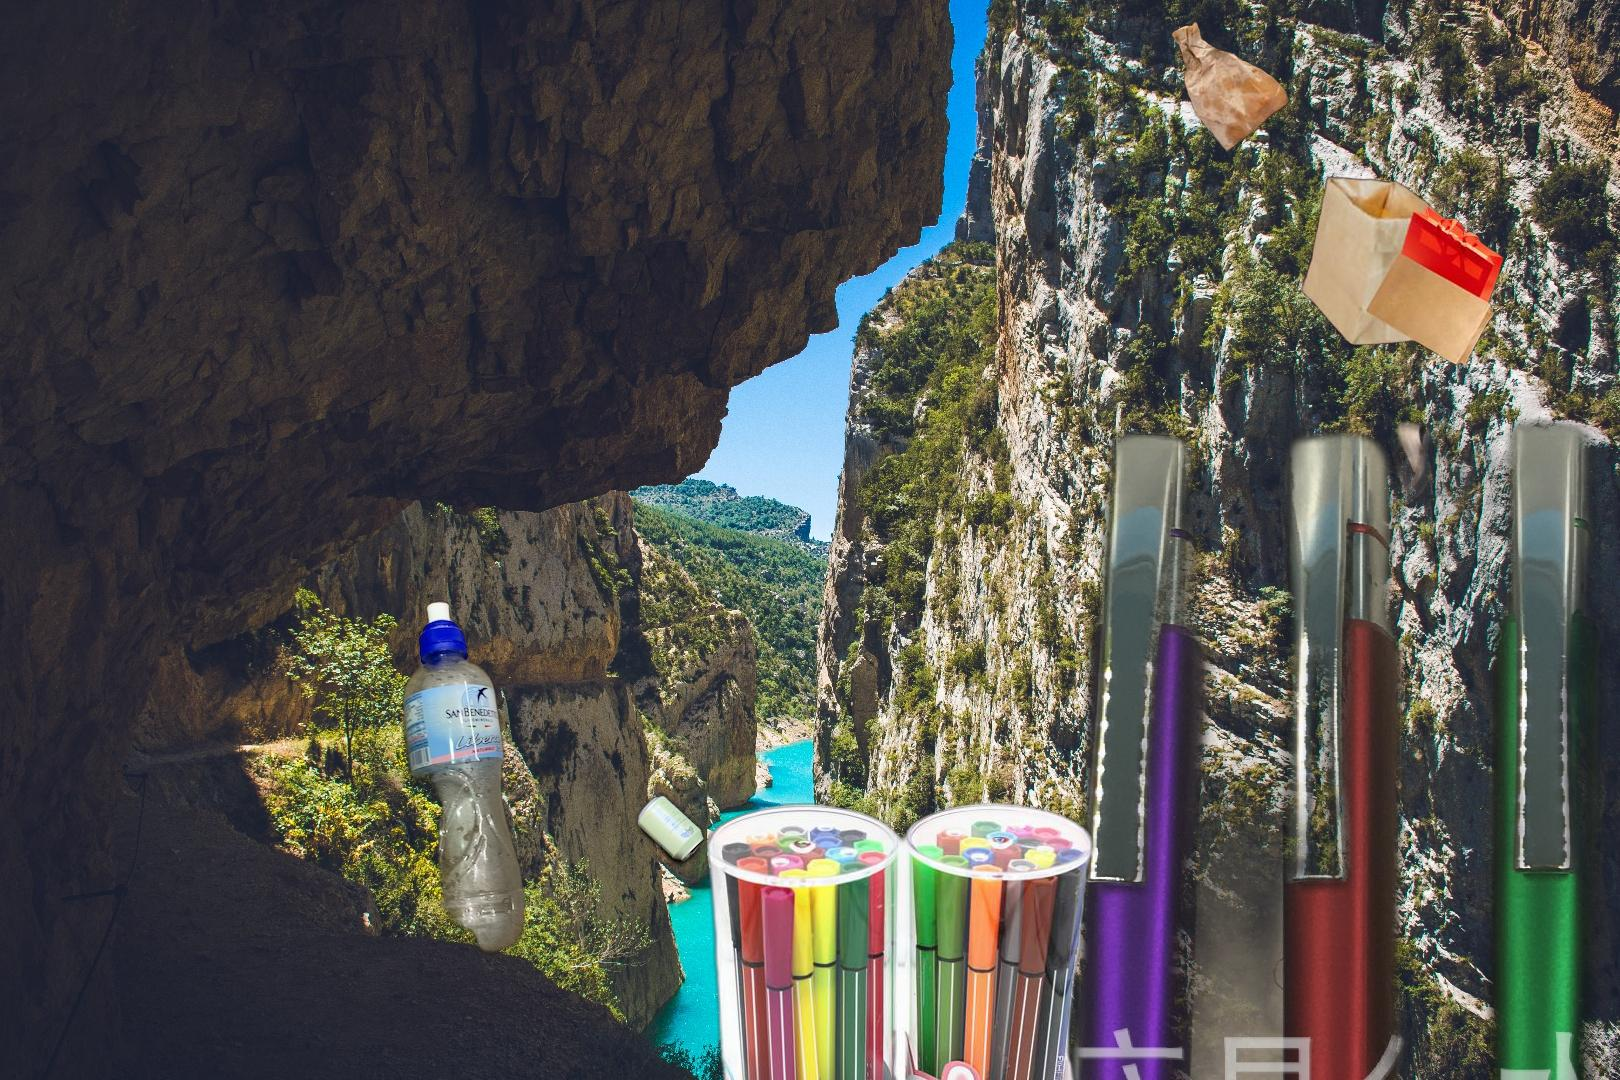metal-cans: (548, 790, 767, 1080)
paper: (1233, 385, 1620, 768)
paper-bag: (1298, 106, 1505, 370), (1170, 18, 1293, 155)
penholder: (749, 115, 1620, 1080), (699, 803, 1100, 1080)
plastic-bottles: (289, 595, 626, 982)
